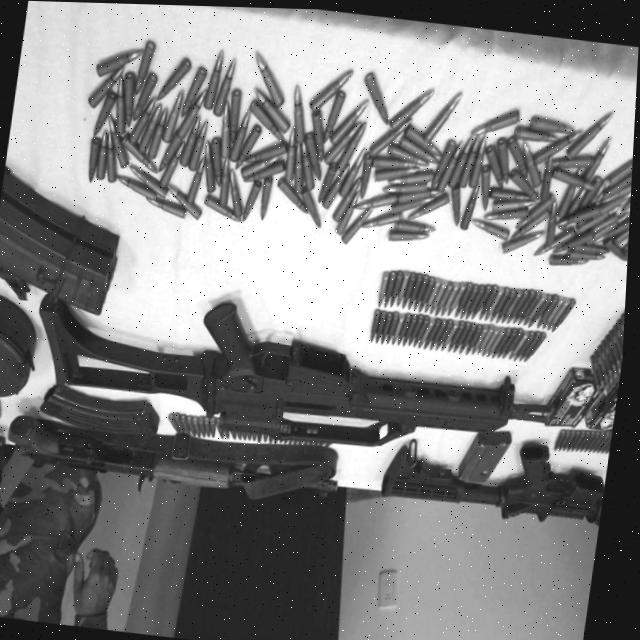firearm: (25, 274, 562, 467), (2, 413, 349, 508), (381, 426, 614, 527)
